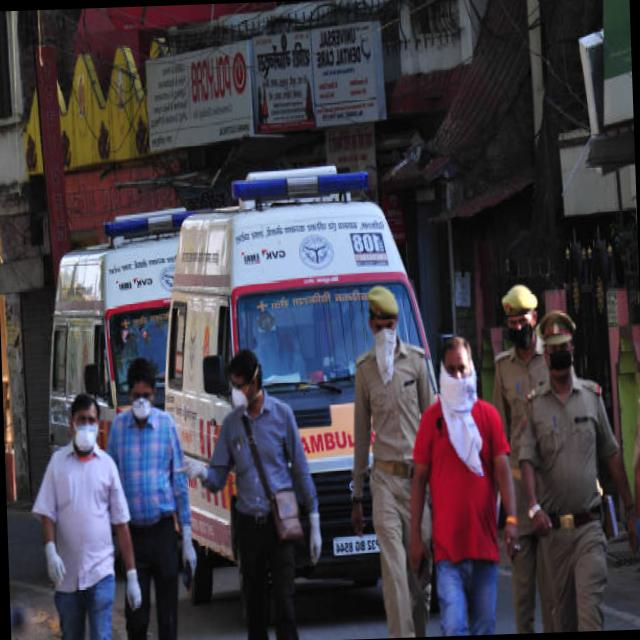ambulance: (158, 143, 460, 611), (25, 189, 196, 502)
